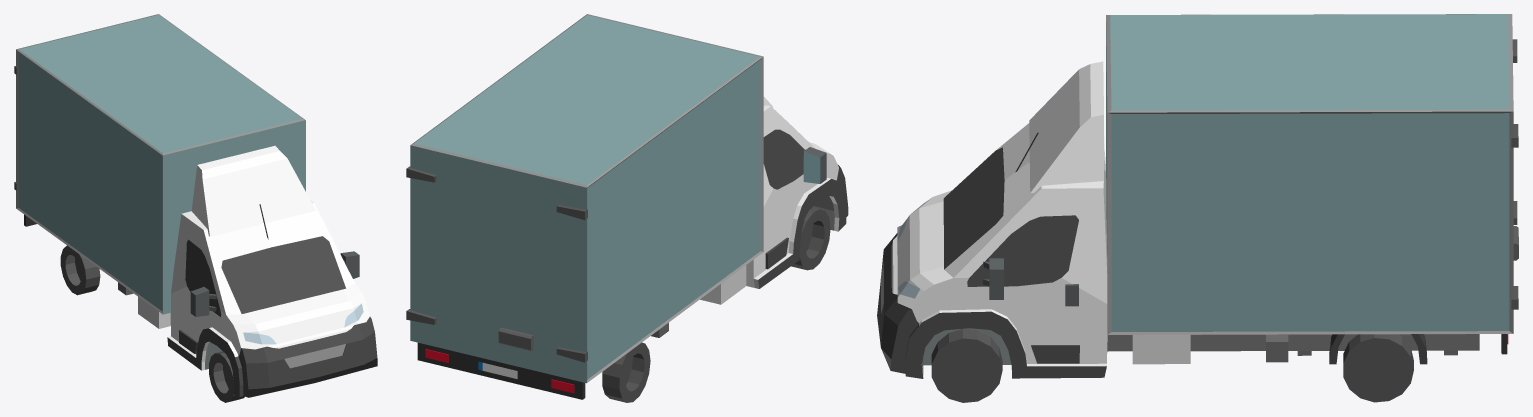
The model's file is Truck1.glb.
3 renders of one model, left to right at view 1: azimuth 30°, elevation 25°; view 2: azimuth 150°, elevation 25°; view 3: azimuth 270°, elevation 25°, orthographic. The views are drawn at different scales.
Parts seen in each view (by area): view 1: Truck1Root; view 2: Truck1Root; view 3: Truck1Root.
Boxes of the visible parts, x1,y1,x2,y2 form: Truck1Root: (14,14,377,402); Truck1Root: (406,14,848,402); Truck1Root: (877,14,1518,402).
Bounding box in the file's own units: 2 × 2.46 × 4.85.
